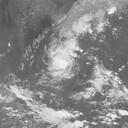cyclone: (45, 50, 77, 79)
